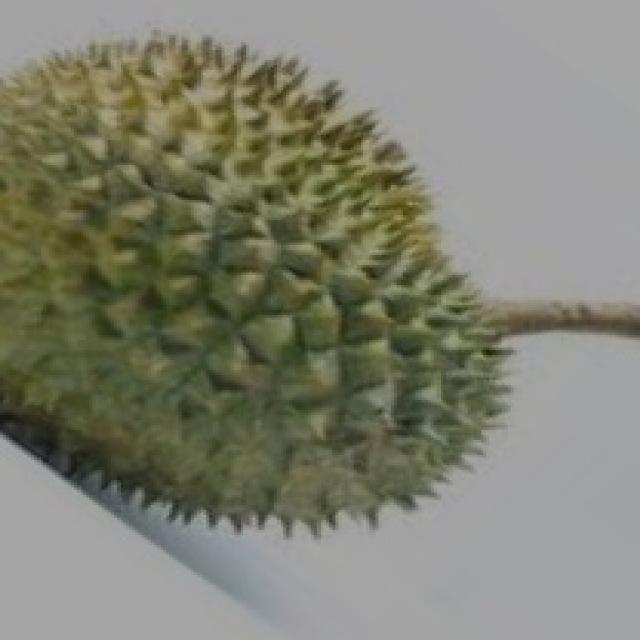fruit: (0, 220, 369, 610)
